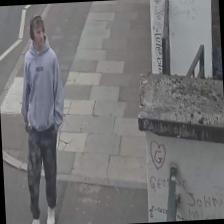person: (15, 13, 70, 224)
